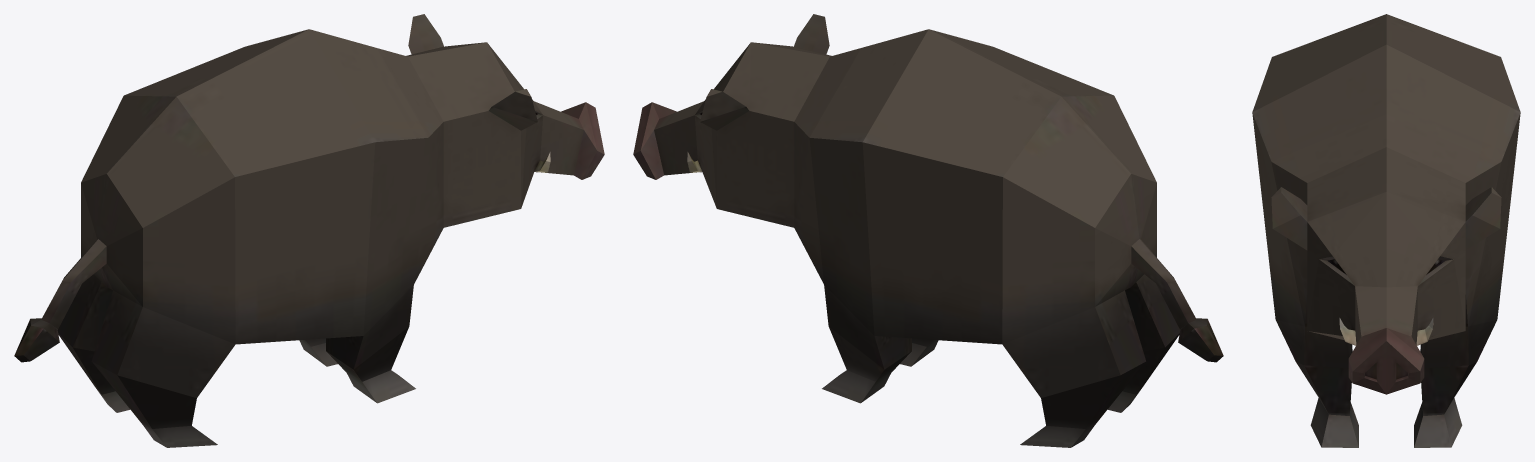
The model's file is boar.gltf.
3 views of the same model, side by side, from view 1: azimuth 30°, elevation 25°; view 2: azimuth 150°, elevation 25°; view 3: azimuth 270°, elevation 25° (orthographic). The views are drawn at different scales.
Visible parts, largest first — view 1: Boar; view 2: Boar; view 3: Boar.
Part boxes in pixels (x1=…): Boar: x1=14, y1=14, x2=604, y2=447; Boar: x1=633, y1=14, x2=1223, y2=447; Boar: x1=1252, y1=14, x2=1520, y2=447.
Bounding box in the file's own units: 3.31 × 1.93 × 1.29.
Materials: 1 (1 with a texture image).
